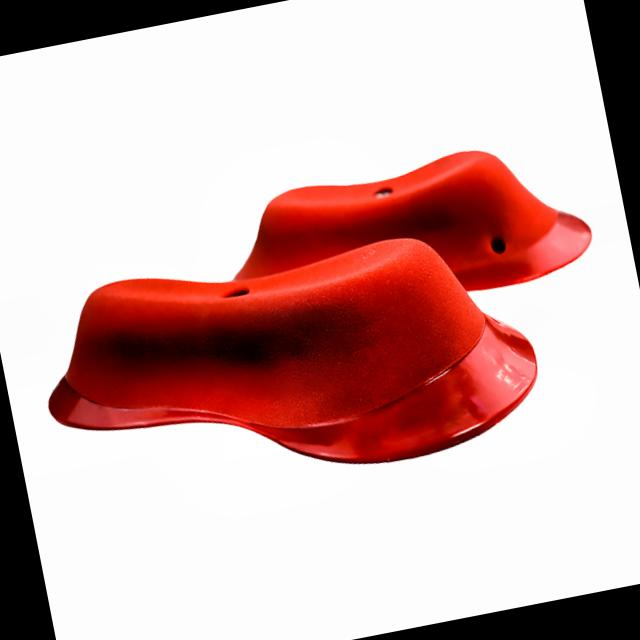Hold: (23, 198, 554, 522), (200, 106, 595, 343)
